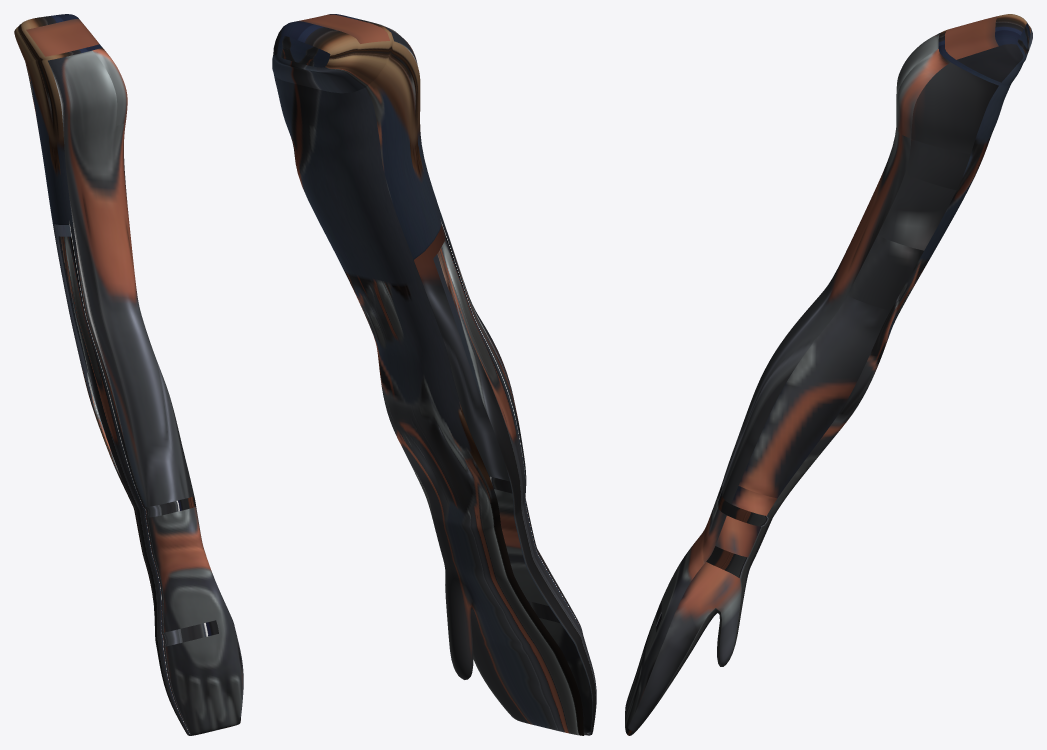
Rendered from RobinBrazoDerecho.obj.
The picture shows the model from 3 angles, left to right: view 1: azimuth 30°, elevation 25°; view 2: azimuth 150°, elevation 25°; view 3: azimuth 270°, elevation 25°; orthographic projection. The views are drawn at different scales.
Parts seen in each view (by area): view 1: BrazoDerecho_Cube.005; view 2: BrazoDerecho_Cube.005; view 3: BrazoDerecho_Cube.005.
Boxes of the visible parts, x1,y1,x2,y2 form: BrazoDerecho_Cube.005: (14,14,243,735); BrazoDerecho_Cube.005: (272,14,596,735); BrazoDerecho_Cube.005: (625,14,1032,735).
Size of the model in its own units: 0.2789 by 2 by 1.06.
